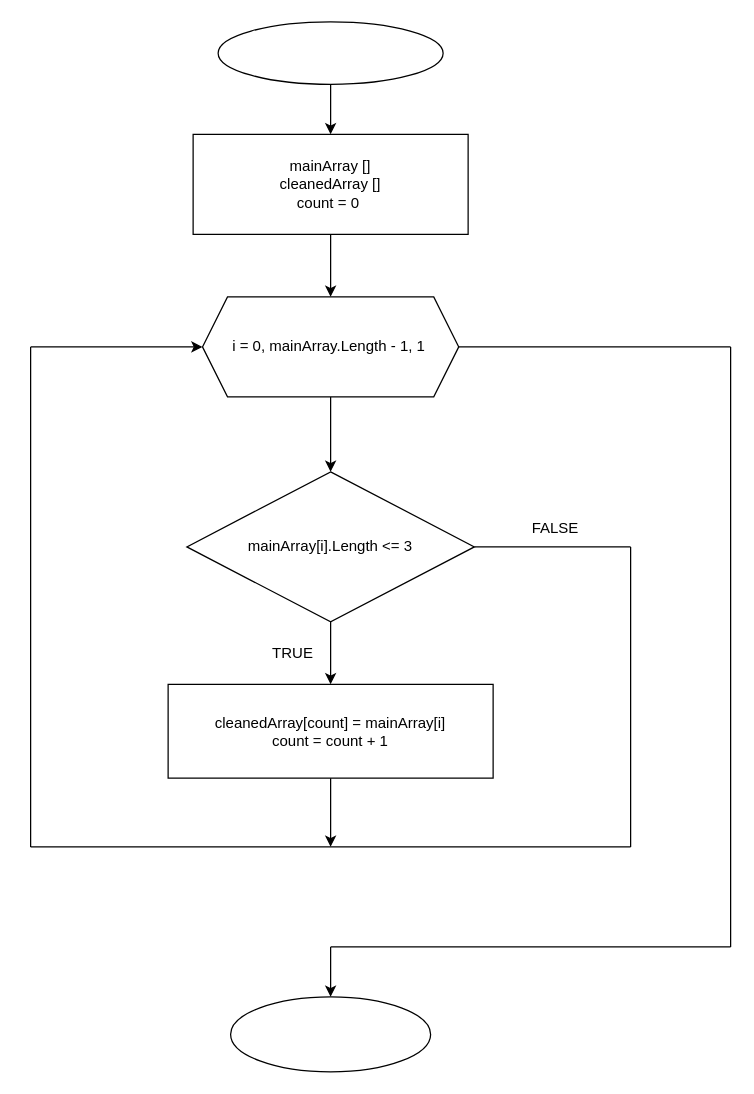
This 754x1094 diagram has some shape labels left out. The shapes that lost their labels are listed below. From the top down, each one's centre as x and y in pixels, then its label:
[330,52]: START
[330,1034]: END
